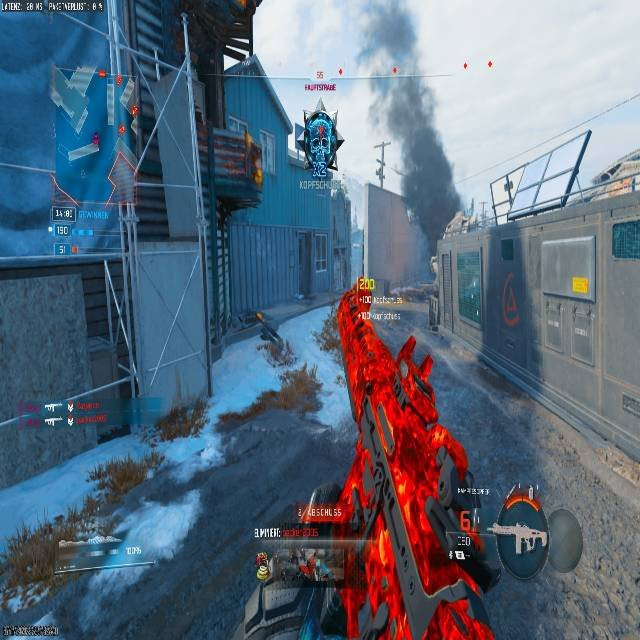player: (297, 109, 343, 174)
